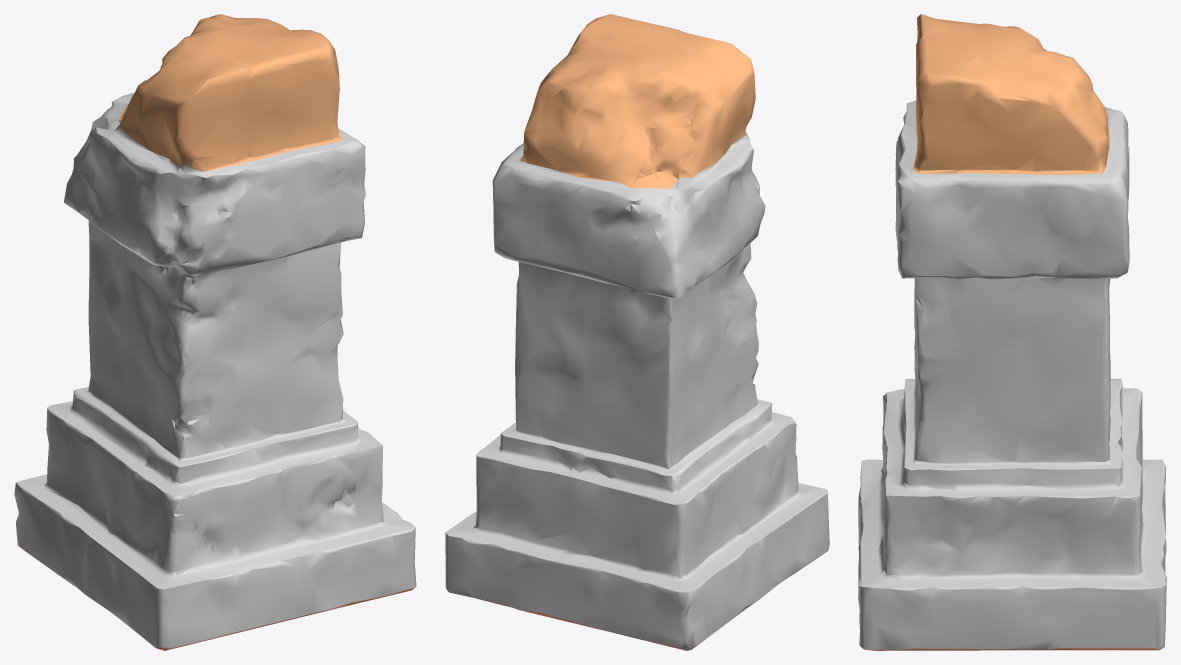
File: Column_fbx.fbx
The picture shows the model from 3 angles, left to right: view 1: azimuth 30°, elevation 25°; view 2: azimuth 150°, elevation 25°; view 3: azimuth 270°, elevation 25°; orthographic projection. The views are drawn at different scales.
Parts seen in each view (by area): view 1: Column; view 2: Column; view 3: Column.
Boxes of the visible parts, x1,y1,x2,y2 form: Column: [14, 14, 416, 650]; Column: [445, 14, 829, 650]; Column: [858, 14, 1166, 650].
Bounding box in the file's own units: 1 × 1.97 × 1.
